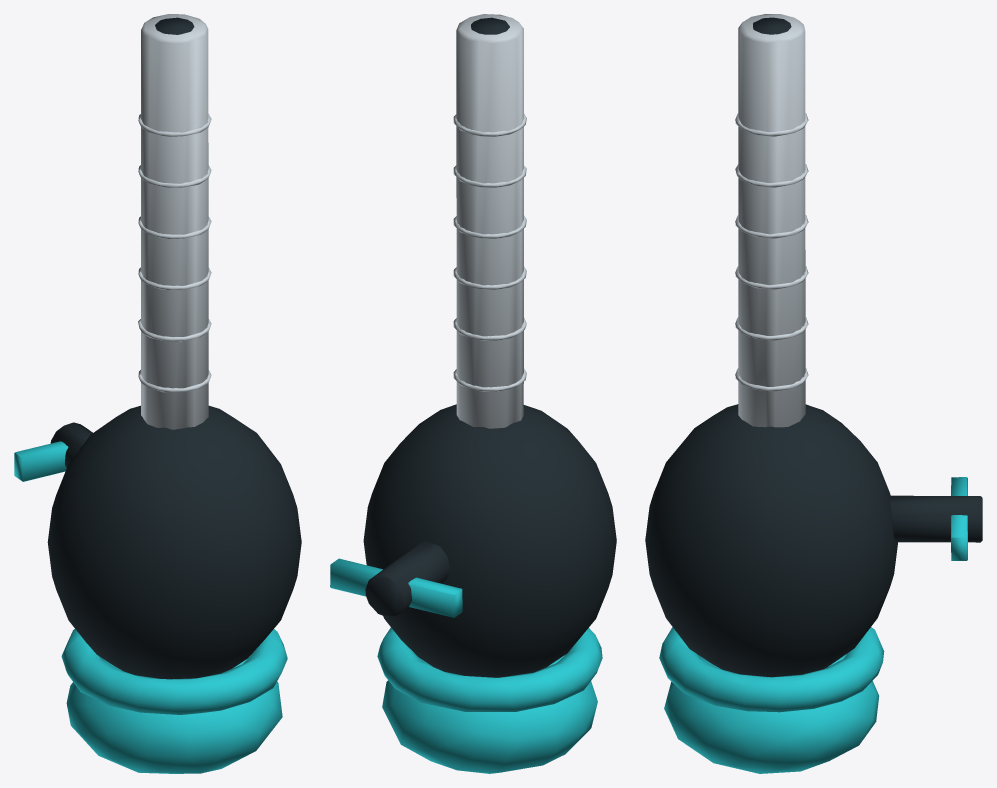
The model's file is inst_trocar_12mm.fbx.
3 renders of one model, left to right at view 1: azimuth 30°, elevation 25°; view 2: azimuth 150°, elevation 25°; view 3: azimuth 270°, elevation 25°, orthographic.
Visible parts, largest first — view 1: inst_trocar_12mm_Geometry, Obturator_Geometry; view 2: inst_trocar_12mm_Geometry, Obturator_Geometry; view 3: inst_trocar_12mm_Geometry, Obturator_Geometry.
Part boxes in pixels (<box>): inst_trocar_12mm_Geometry: <box>14,14,301,714</box>; Obturator_Geometry: <box>66,657,282,773</box>; inst_trocar_12mm_Geometry: <box>330,14,616,711</box>; Obturator_Geometry: <box>382,655,597,773</box>; inst_trocar_12mm_Geometry: <box>645,14,982,712</box>; Obturator_Geometry: <box>664,654,879,773</box>.
Bounding box in the file's own units: 0.054 × 0.1721 × 0.072.
